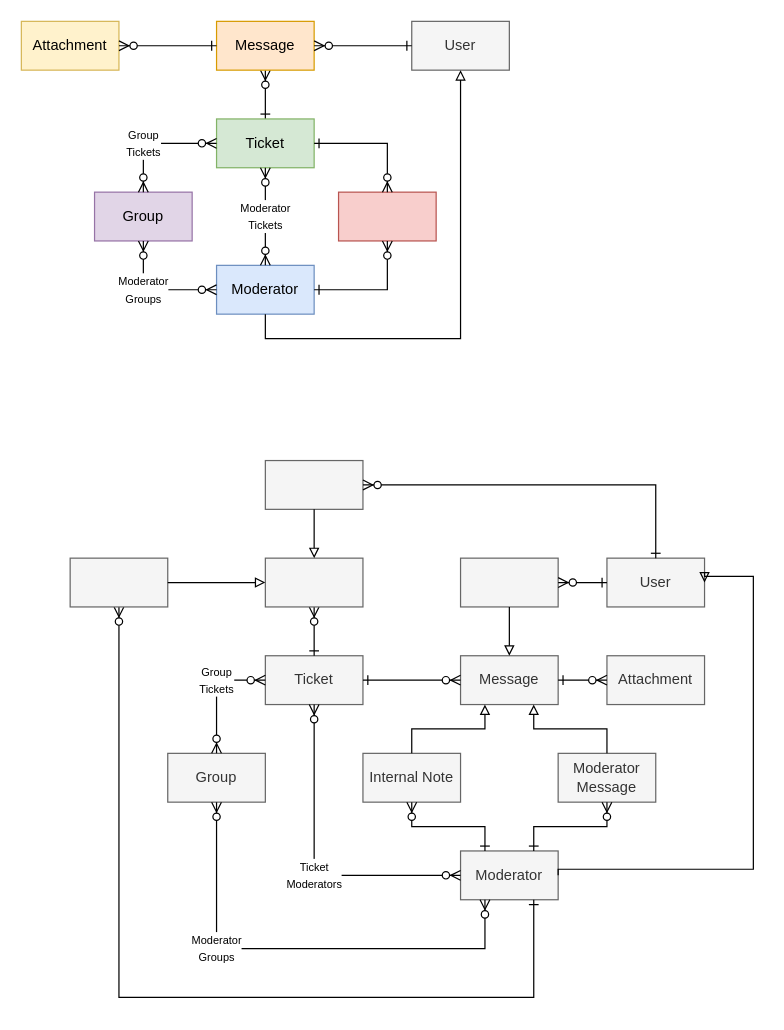
Image size: 784x1030. Some labels were removed from this diagram. The shapes that lost their labels are listed below. From the top down, each one's box as (x1, y1, x2, y2) in pixels, then its label:
(337, 191, 436, 241): Note
(264, 459, 363, 509): Customer Ticket Update
(69, 557, 168, 607): Moderator Ticket Update
(264, 557, 363, 607): Ticket Update
(459, 557, 558, 607): Customer Message
